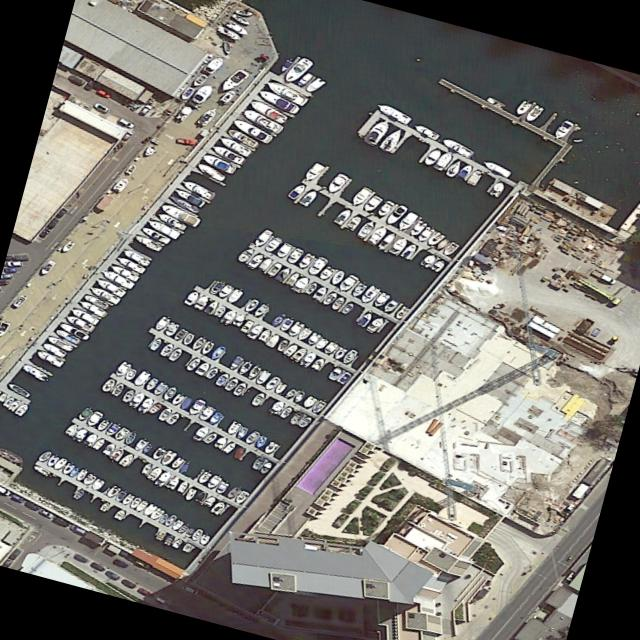ship: (263, 78, 310, 107), (256, 87, 301, 115), (241, 107, 285, 134), (158, 201, 201, 228), (231, 117, 274, 144), (247, 98, 289, 124), (374, 101, 412, 125), (282, 56, 314, 84), (361, 118, 393, 146), (179, 177, 216, 201), (209, 143, 246, 165), (201, 152, 238, 174), (216, 135, 252, 157), (145, 217, 181, 239), (377, 126, 406, 153), (440, 136, 475, 158), (219, 68, 250, 92), (224, 127, 259, 148), (100, 268, 135, 289), (172, 186, 206, 207), (88, 284, 121, 305), (94, 277, 127, 298), (167, 194, 201, 214), (195, 161, 227, 182), (156, 211, 188, 231), (64, 313, 96, 333), (58, 321, 90, 341), (108, 263, 140, 282), (140, 225, 172, 244), (77, 299, 109, 318), (121, 248, 152, 267), (115, 255, 146, 274), (69, 306, 100, 325), (481, 159, 512, 178), (133, 233, 163, 252), (20, 362, 49, 381), (34, 349, 64, 367), (395, 210, 419, 232), (190, 83, 215, 104), (324, 173, 349, 194), (412, 123, 441, 141), (349, 186, 373, 207), (384, 204, 408, 225), (306, 255, 330, 276), (196, 106, 219, 127), (551, 119, 574, 140), (301, 162, 325, 182), (46, 334, 74, 351), (366, 225, 388, 246), (336, 273, 359, 293), (358, 284, 381, 304), (83, 293, 110, 310), (55, 328, 82, 345), (202, 55, 226, 74), (41, 341, 67, 358), (387, 236, 409, 256), (216, 25, 243, 41), (0, 447, 24, 465), (355, 219, 376, 239), (432, 151, 453, 171), (298, 188, 319, 207), (252, 229, 273, 248), (422, 147, 443, 166), (186, 397, 207, 416), (286, 182, 308, 200), (225, 20, 249, 36), (7, 382, 31, 398), (377, 231, 397, 250), (333, 207, 353, 226), (84, 409, 104, 428), (444, 158, 464, 177), (523, 104, 544, 122), (364, 316, 386, 333), (303, 77, 326, 93), (376, 199, 396, 217), (408, 219, 428, 237), (290, 275, 310, 293), (362, 195, 383, 212), (246, 252, 265, 270), (113, 360, 132, 378), (111, 176, 131, 193), (399, 242, 419, 259), (415, 226, 435, 243), (344, 214, 364, 231), (236, 246, 256, 263), (190, 425, 210, 442), (263, 236, 284, 252), (488, 180, 506, 198), (159, 449, 178, 466), (153, 470, 172, 487), (340, 348, 359, 365), (208, 344, 227, 361), (246, 323, 265, 340), (298, 351, 318, 367), (10, 292, 30, 308), (263, 375, 283, 391), (297, 252, 315, 269), (286, 247, 304, 264), (39, 259, 57, 276), (218, 88, 237, 104), (441, 241, 460, 257), (274, 242, 293, 258), (286, 321, 305, 337), (132, 370, 151, 386), (197, 405, 216, 421), (219, 309, 238, 325), (216, 283, 235, 299), (182, 290, 201, 306), (425, 231, 445, 246), (466, 169, 483, 186), (193, 294, 210, 311), (176, 105, 194, 121), (419, 252, 437, 268), (372, 292, 390, 308), (274, 266, 292, 282), (514, 100, 532, 116), (137, 397, 155, 413), (184, 356, 202, 372), (225, 288, 243, 304), (230, 381, 248, 397), (268, 399, 286, 415), (140, 143, 159, 158), (264, 333, 283, 348), (100, 377, 117, 393), (318, 265, 335, 281), (350, 282, 367, 298), (311, 285, 328, 301), (457, 163, 474, 179), (163, 321, 180, 337), (129, 391, 146, 407), (156, 406, 173, 422), (203, 299, 220, 315), (243, 297, 260, 313), (254, 369, 271, 385), (296, 72, 314, 87), (209, 500, 227, 515), (112, 426, 130, 441), (117, 452, 135, 467), (321, 291, 339, 306), (356, 312, 374, 327), (382, 298, 400, 313), (290, 347, 308, 362), (153, 316, 171, 331), (194, 361, 212, 376), (269, 312, 287, 327), (213, 372, 231, 387), (249, 391, 267, 406), (231, 13, 251, 26), (109, 446, 125, 462), (110, 381, 126, 397), (327, 365, 343, 381), (162, 385, 178, 401), (179, 86, 196, 101), (233, 489, 250, 504), (146, 466, 163, 481), (330, 269, 345, 286), (310, 356, 327, 371), (158, 342, 175, 357), (208, 280, 225, 295), (287, 411, 304, 426), (191, 73, 209, 87), (335, 370, 353, 384), (148, 507, 166, 521), (485, 97, 506, 109), (243, 430, 261, 444), (252, 303, 270, 317), (72, 427, 88, 442), (285, 271, 301, 286), (330, 296, 346, 311), (394, 305, 410, 320), (257, 256, 273, 271), (120, 388, 136, 403), (152, 381, 168, 396), (278, 317, 294, 332), (228, 355, 244, 370), (237, 361, 253, 376), (246, 365, 262, 380), (76, 407, 93, 421), (104, 423, 121, 437), (205, 475, 222, 489), (282, 343, 299, 357), (167, 347, 184, 361), (190, 336, 207, 350), (310, 400, 327, 414), (223, 377, 240, 391), (32, 464, 51, 476), (226, 420, 241, 435), (60, 239, 76, 253), (430, 259, 446, 273), (434, 237, 450, 251), (64, 422, 80, 436), (89, 478, 105, 492), (52, 456, 68, 470), (225, 485, 241, 499), (151, 446, 167, 460), (303, 281, 319, 295), (332, 346, 348, 360), (267, 262, 283, 276), (305, 332, 321, 346), (296, 327, 312, 341), (250, 456, 266, 470), (148, 337, 164, 351), (165, 411, 181, 425), (207, 411, 223, 425), (141, 503, 158, 516), (322, 341, 339, 354), (83, 432, 98, 446), (127, 496, 142, 510), (163, 513, 178, 527), (214, 481, 229, 495), (199, 341, 214, 355), (213, 435, 228, 449), (144, 377, 159, 391), (91, 437, 107, 450), (105, 485, 121, 498), (81, 473, 97, 486), (60, 462, 76, 475), (196, 471, 212, 484), (231, 314, 247, 327), (204, 366, 220, 379), (278, 406, 294, 419), (36, 450, 53, 462), (202, 431, 219, 443), (0, 320, 11, 338), (190, 527, 204, 541), (166, 475, 180, 489), (102, 442, 116, 456), (235, 426, 249, 440), (181, 332, 195, 346), (258, 328, 272, 342), (276, 338, 290, 352), (14, 403, 29, 416), (7, 399, 22, 412), (263, 441, 278, 454), (179, 397, 194, 410), (240, 320, 255, 333), (172, 328, 188, 340), (222, 441, 238, 453), (301, 396, 317, 408), (297, 416, 313, 428), (113, 508, 127, 521), (45, 454, 59, 467), (2, 395, 16, 408), (124, 431, 137, 445), (194, 490, 208, 503), (184, 487, 197, 501), (259, 461, 273, 474), (124, 368, 138, 381), (213, 304, 227, 317), (273, 382, 287, 395), (120, 493, 135, 505), (72, 488, 87, 500), (340, 302, 355, 314), (314, 338, 329, 350), (170, 393, 185, 405), (148, 402, 163, 414), (282, 388, 298, 399), (279, 59, 292, 72), (75, 469, 88, 482), (176, 480, 189, 493), (255, 435, 268, 448), (124, 163, 138, 175), (134, 500, 148, 512), (170, 519, 184, 531), (170, 457, 184, 469), (133, 439, 147, 451), (293, 389, 305, 403), (114, 490, 127, 502), (177, 522, 190, 534), (155, 529, 168, 541), (96, 419, 109, 431), (203, 495, 216, 507), (141, 462, 153, 475), (183, 526, 196, 538), (233, 446, 245, 459), (158, 512, 170, 524), (178, 462, 190, 474), (198, 534, 210, 545), (163, 534, 175, 545), (171, 538, 184, 548), (235, 9, 253, 16), (99, 501, 110, 512), (142, 443, 153, 454), (68, 467, 80, 477), (223, 41, 231, 54), (182, 542, 192, 552), (0, 392, 8, 402)
small-vehicle: (590, 268, 617, 285), (65, 73, 87, 88), (68, 523, 87, 536), (91, 101, 110, 114), (53, 515, 71, 528), (135, 587, 154, 599), (134, 558, 152, 570), (102, 569, 120, 581), (87, 561, 105, 573), (117, 117, 135, 129), (38, 507, 55, 519), (111, 558, 129, 569), (138, 103, 153, 116), (120, 577, 136, 589), (72, 552, 88, 564), (174, 137, 195, 146), (182, 584, 199, 595), (8, 492, 25, 503), (23, 500, 40, 511), (96, 88, 112, 99), (6, 260, 25, 267), (120, 130, 133, 140), (0, 485, 11, 496), (3, 267, 17, 272)
